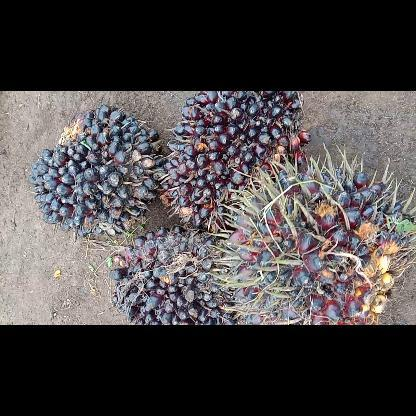TBS mentah: (216, 165, 414, 324), (160, 90, 315, 238), (26, 104, 162, 236), (107, 224, 241, 324)
